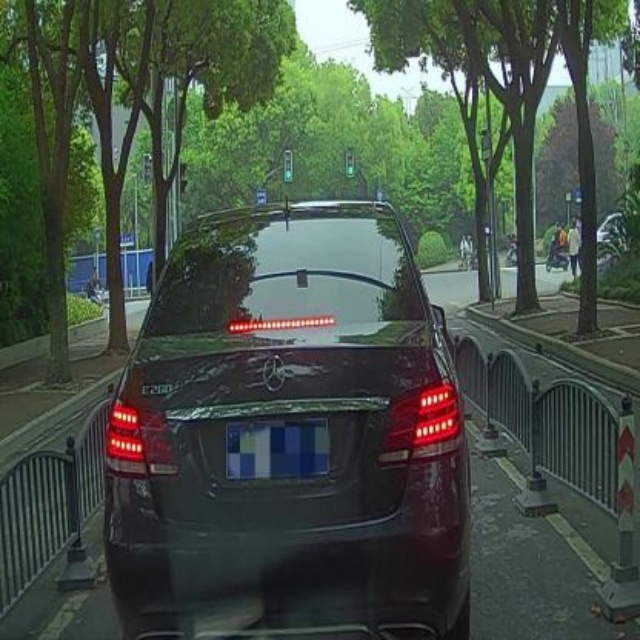Đèn xanh: (284, 147, 293, 182), (346, 142, 354, 178)
